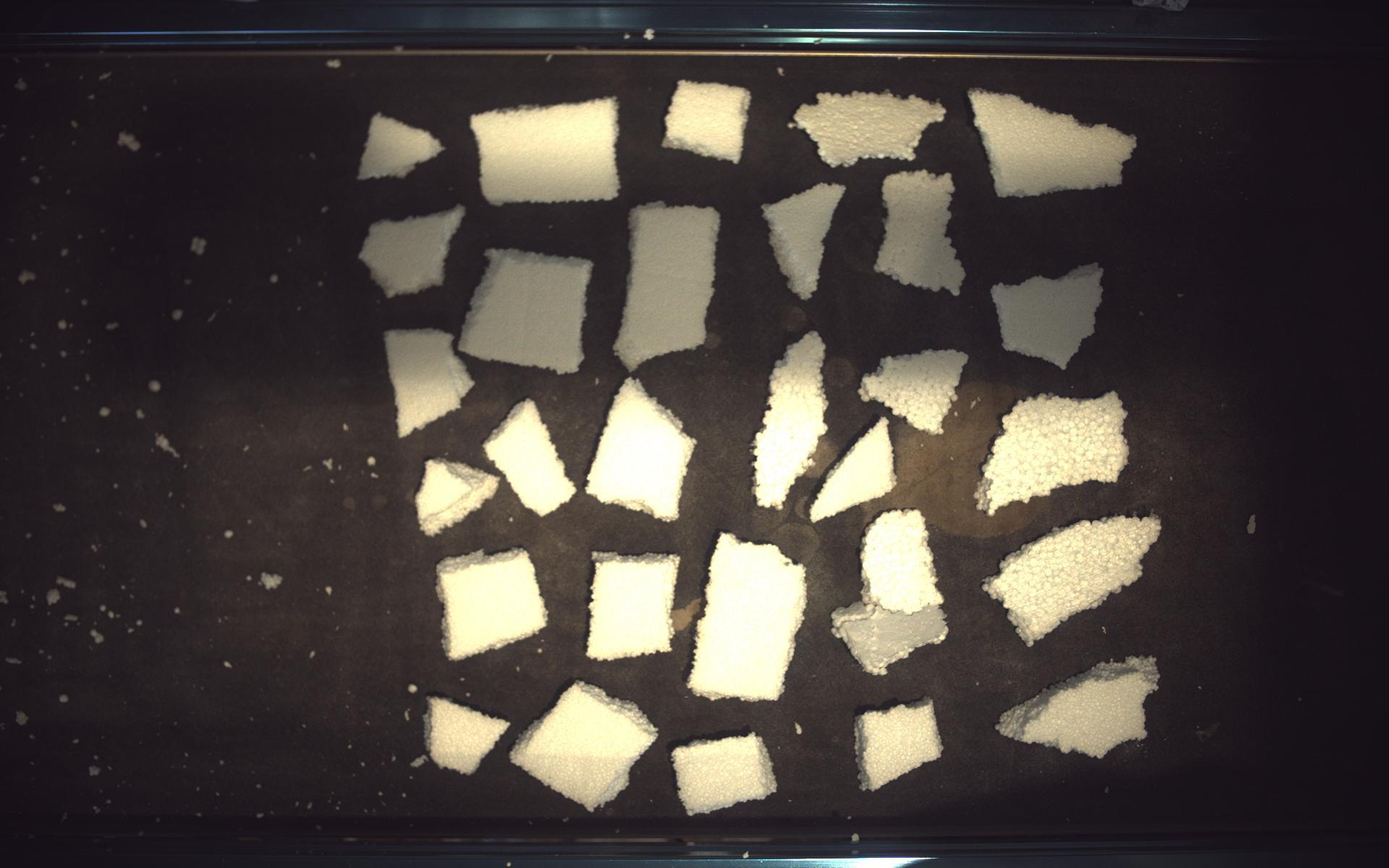foam: (986, 516, 1162, 647), (689, 533, 807, 702), (833, 510, 950, 676), (510, 682, 658, 812), (977, 392, 1131, 515), (971, 88, 1138, 196), (615, 201, 721, 370), (998, 658, 1162, 760), (459, 248, 592, 373), (471, 96, 620, 204), (587, 378, 697, 522), (755, 331, 829, 509), (437, 549, 548, 661), (993, 263, 1105, 368), (795, 90, 947, 166), (876, 169, 967, 295), (484, 399, 576, 516), (587, 553, 681, 661), (763, 182, 847, 299), (384, 328, 474, 437), (359, 204, 464, 297), (861, 349, 969, 435), (812, 417, 897, 522), (673, 733, 778, 817), (857, 699, 944, 791), (663, 79, 752, 162), (424, 698, 509, 775), (415, 459, 498, 537), (357, 111, 443, 179)
